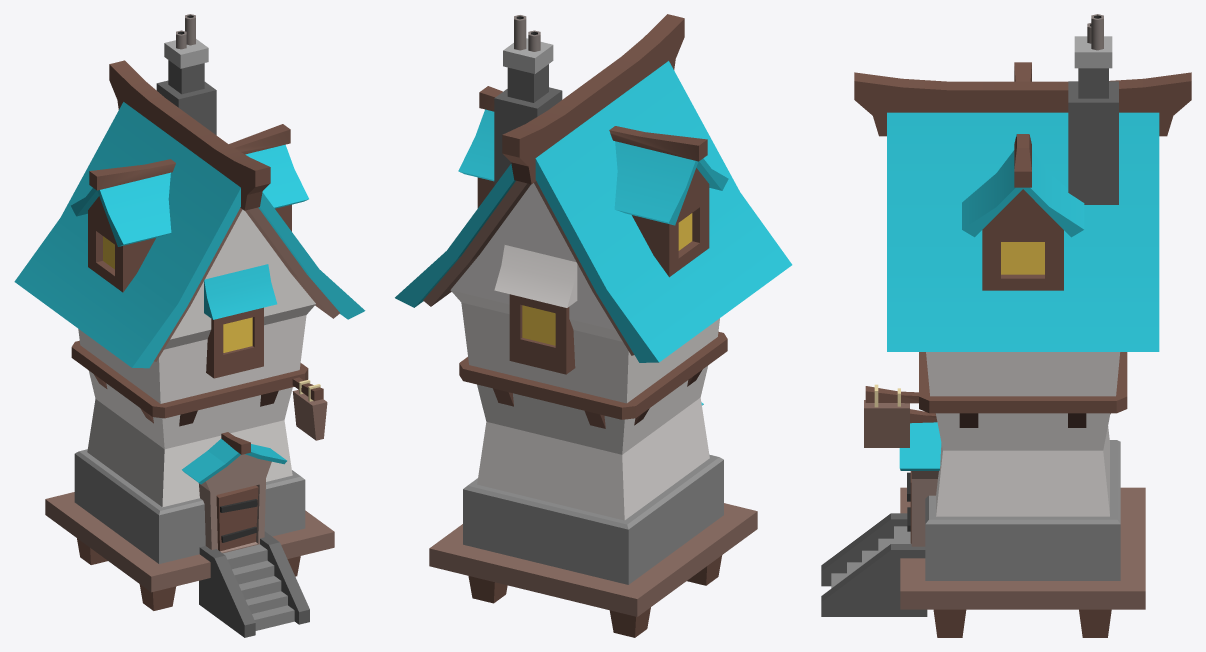
File: house_002.fbx
3 renders of one model, left to right at view 1: azimuth 30°, elevation 25°; view 2: azimuth 150°, elevation 25°; view 3: azimuth 270°, elevation 25°, orthographic. The views are drawn at different scales.
Parts seen in each view (by area): view 1: house_002; view 2: house_002; view 3: house_002.
Part boxes in pixels (bbox=[...]): house_002: bbox=[14, 14, 365, 637]; house_002: bbox=[395, 14, 792, 637]; house_002: bbox=[821, 14, 1191, 637].
Size of the model in its own units: 657 by 780 by 1393.
Materials: 2 (2 with a texture image).
